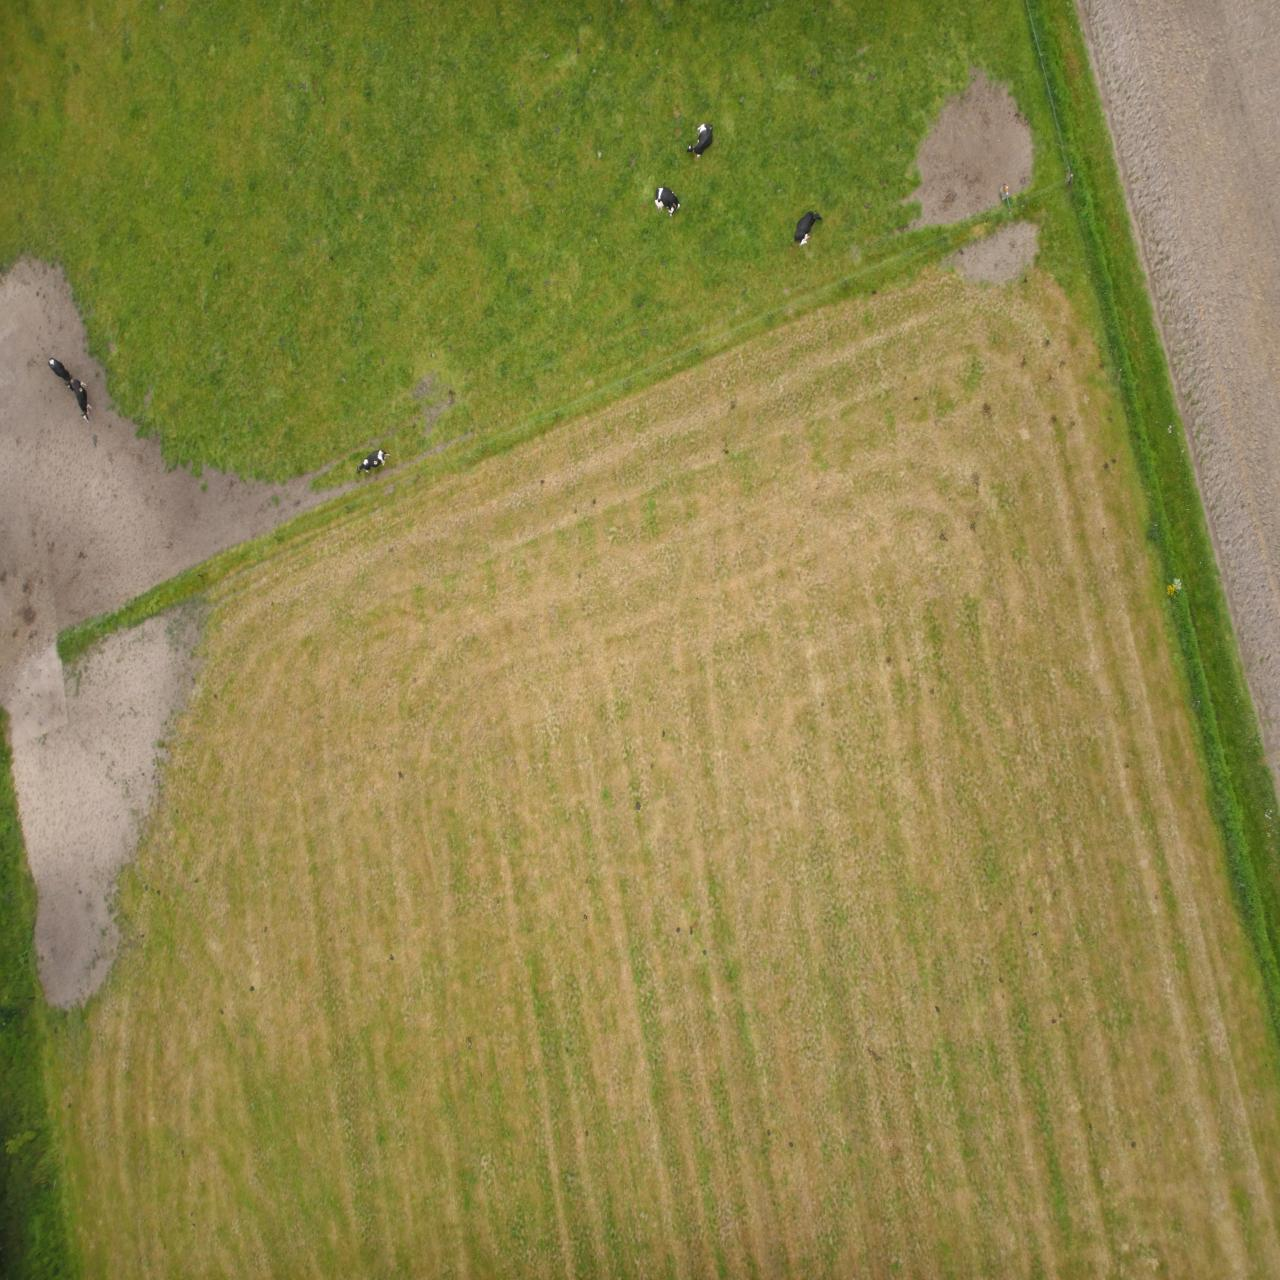cow: (458, 1034, 485, 1069), (890, 805, 925, 831), (567, 1123, 593, 1157), (1206, 887, 1231, 921), (1187, 858, 1206, 900), (600, 1064, 625, 1094)
